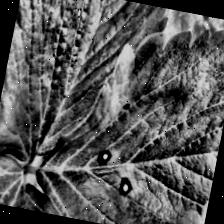Leaf Spot: (27, 0, 224, 224), (0, 0, 170, 186)
